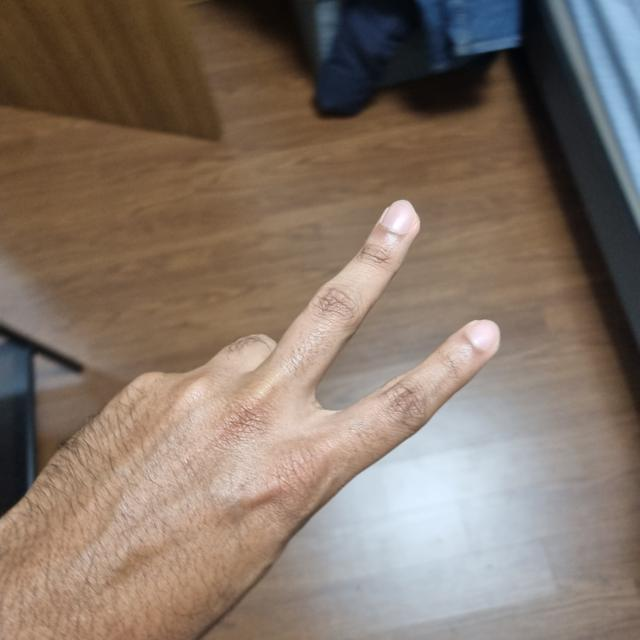Scissors: (1, 198, 493, 638)
